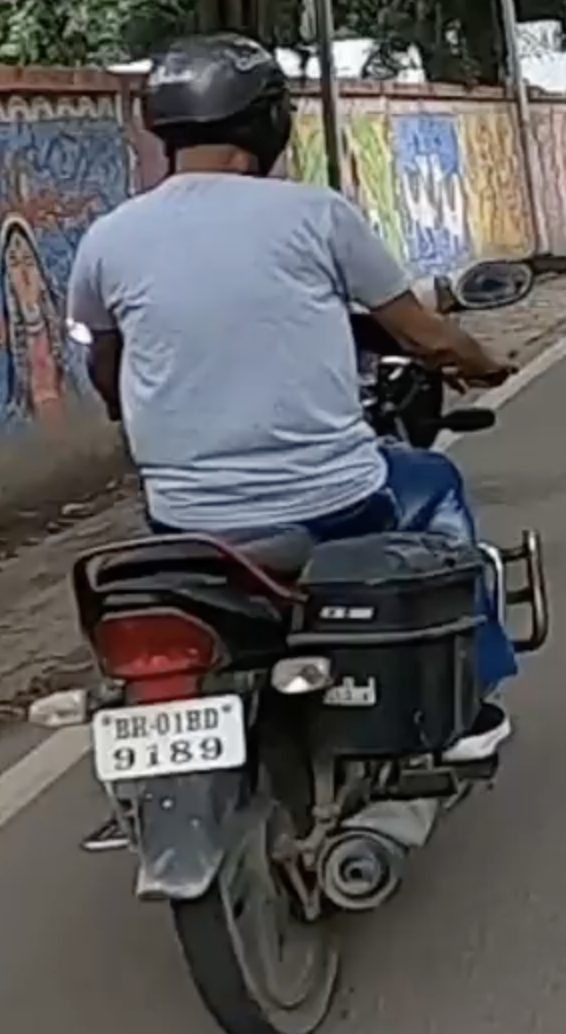motor: (49, 331, 545, 1028), (141, 34, 311, 181)
number: (89, 691, 246, 781)
